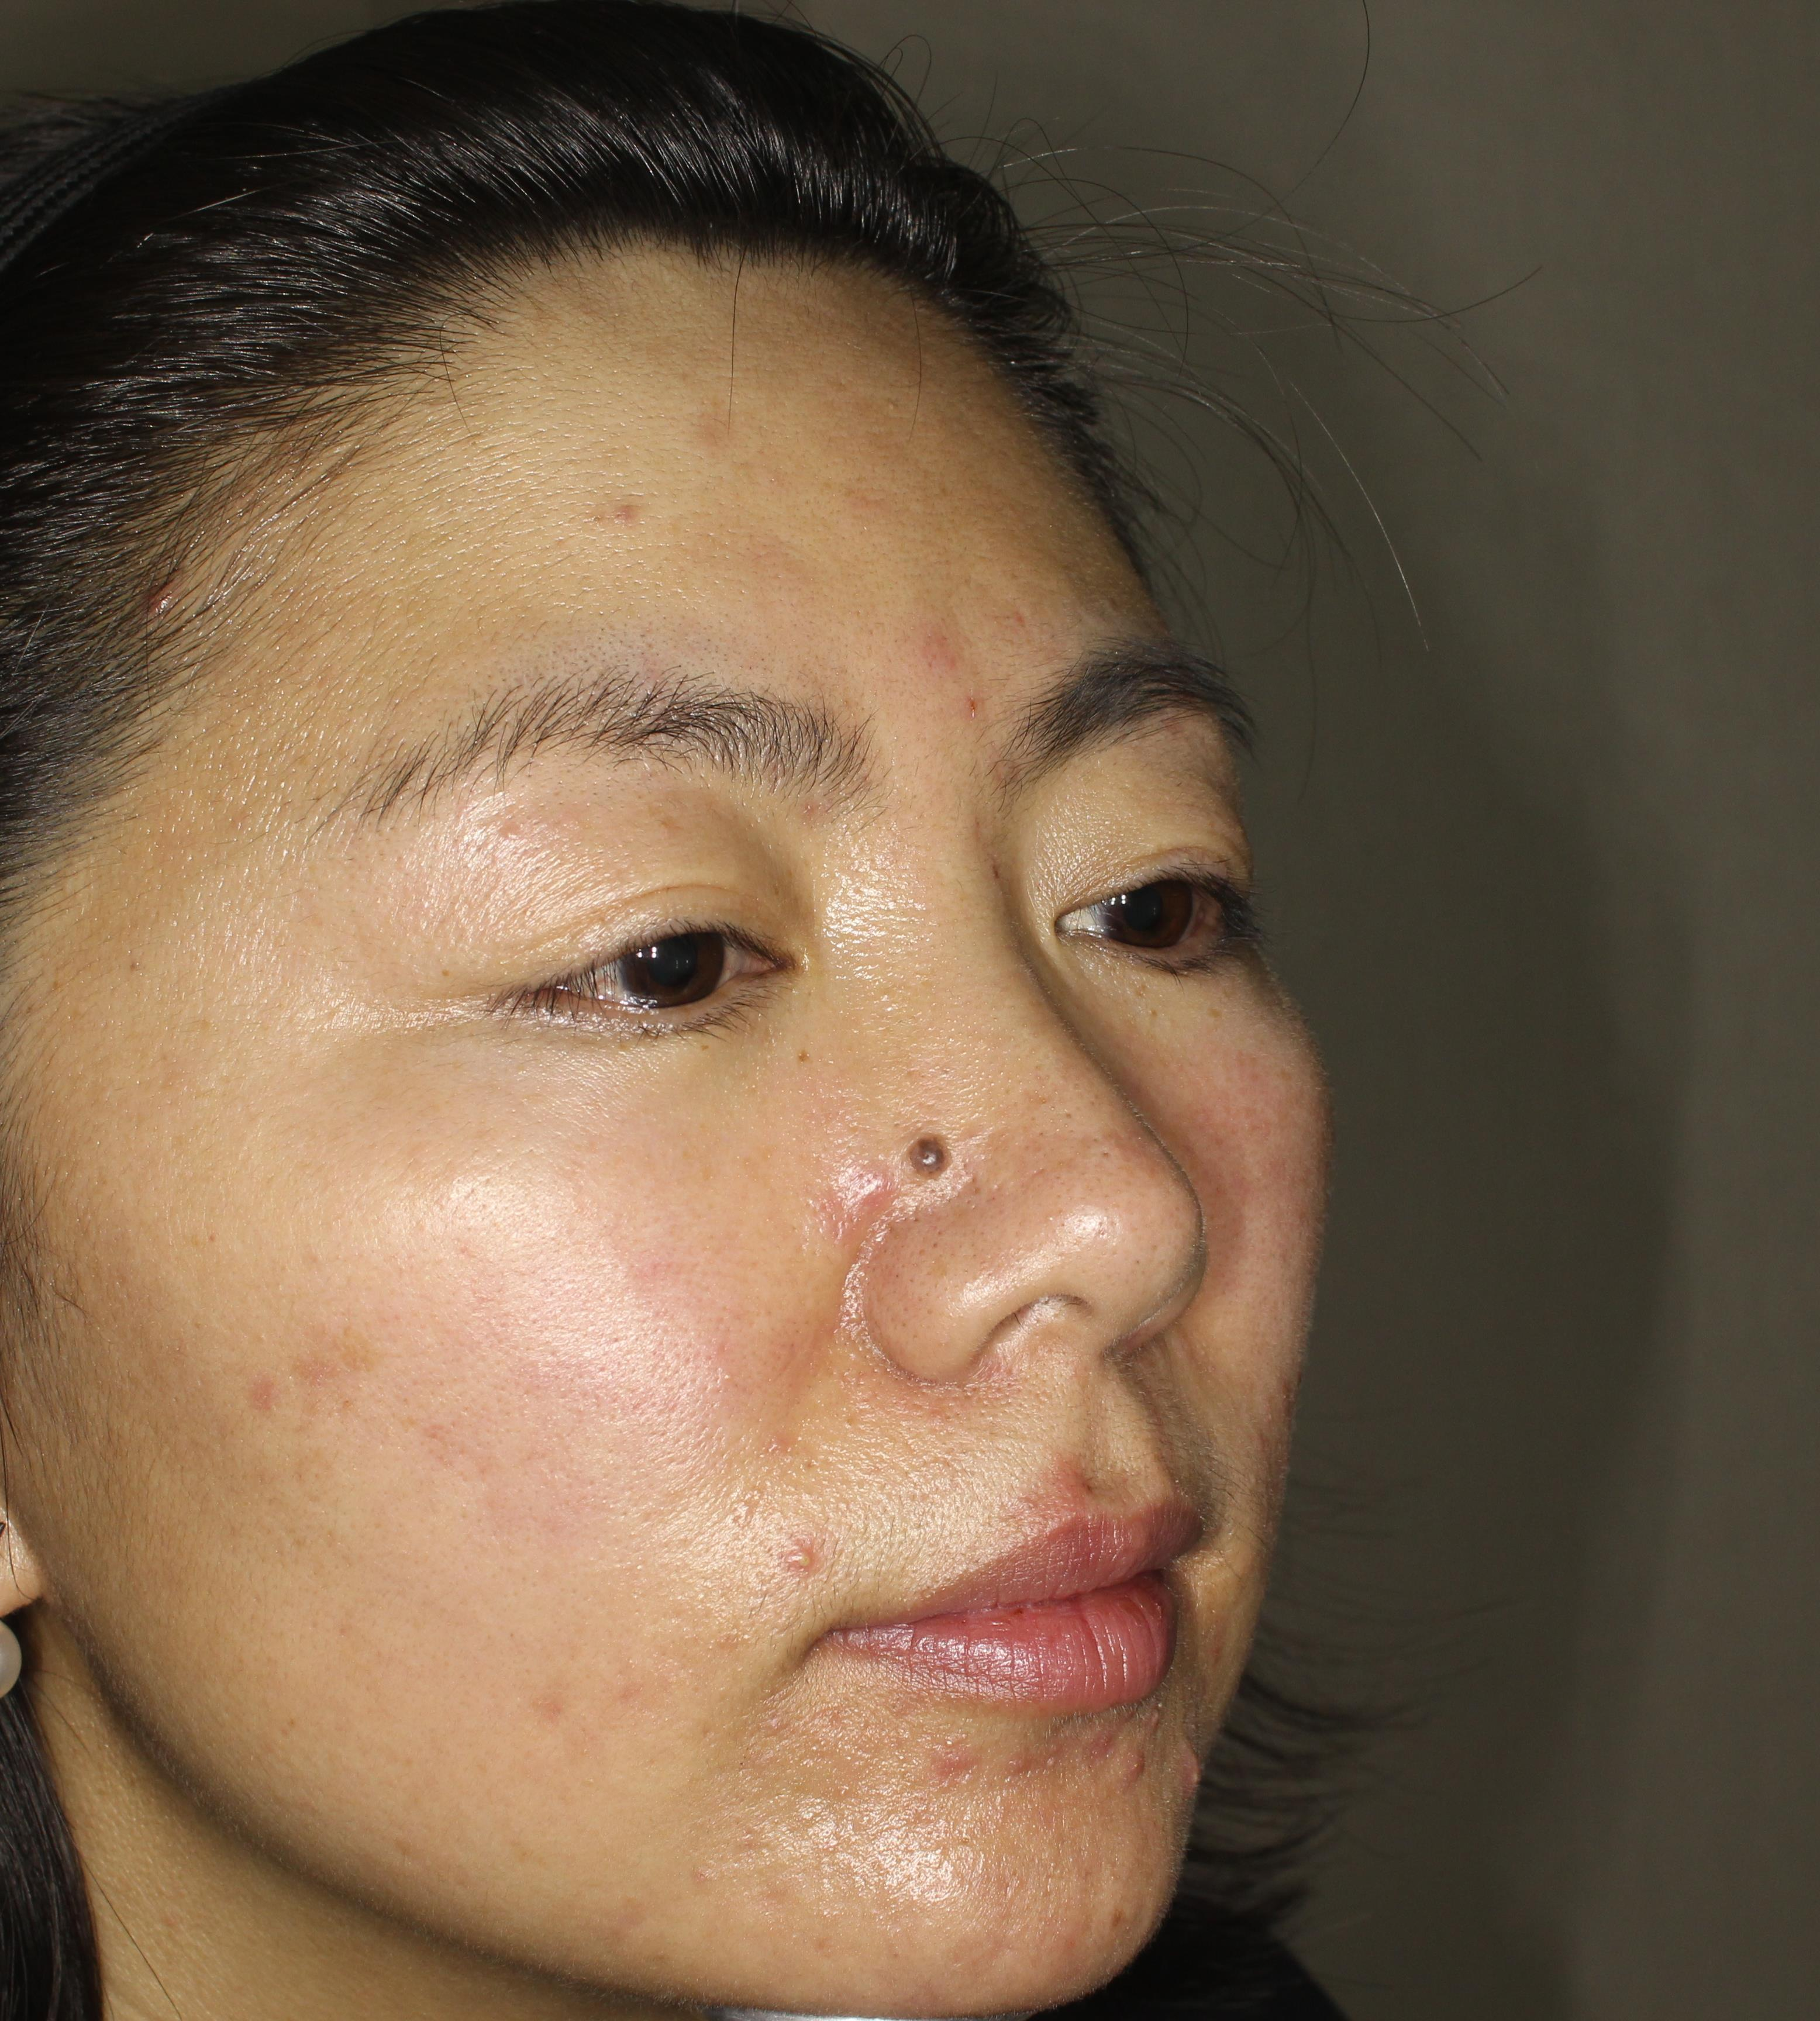fore: (817, 1141, 906, 1236), (1077, 1696, 1152, 1805), (574, 465, 678, 536), (1166, 1710, 1242, 1805), (982, 1719, 1063, 1794), (915, 1710, 982, 1794), (771, 1522, 840, 1594), (906, 639, 970, 694)
